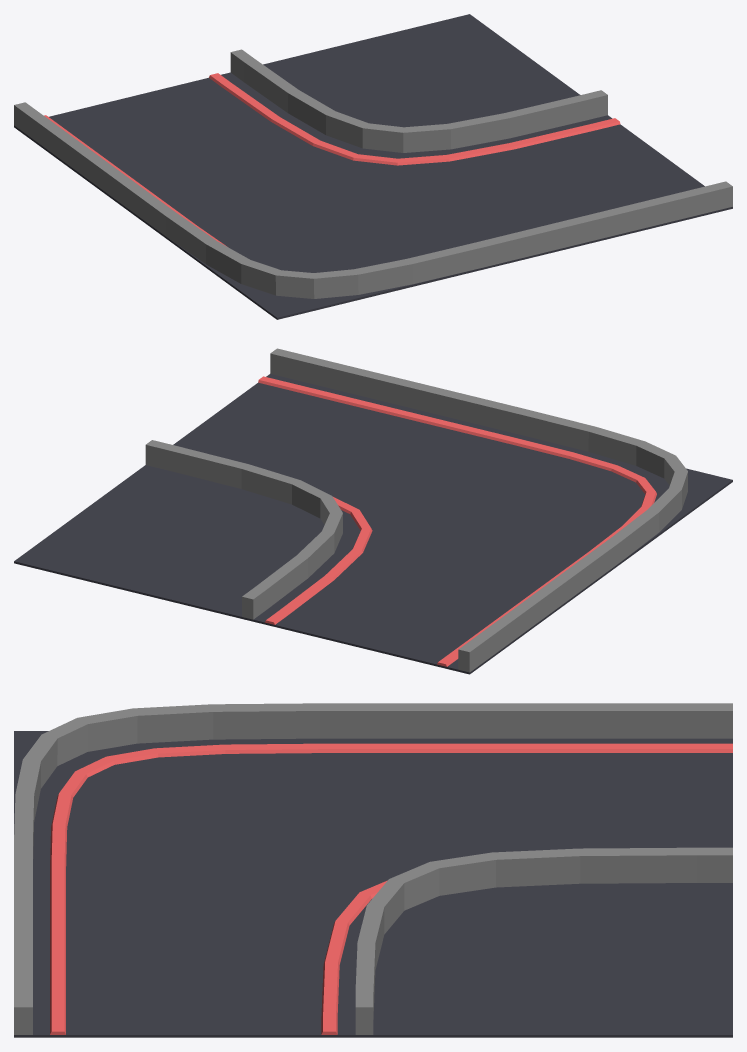
The model's file is kartkids_base_trk_080_trn_wide_l_2x2.glb.
The picture shows the model from 3 angles, top to bottom: view 1: azimuth 30°, elevation 25°; view 2: azimuth 150°, elevation 25°; view 3: azimuth 270°, elevation 25°; orthographic projection. The views are drawn at different scales.
Parts seen in each view (by area): view 1: kartkids_base_trk_010_rd_straight_1x1.010, kartkids_base_trk_020_trn_90_l_1x1.009, kartkids_base_trk_020_trn_90_l_1x1.020, kartkids_base_trk_020_trn_90_l_1x1.018; view 2: kartkids_base_trk_010_rd_straight_1x1.010, kartkids_base_trk_020_trn_90_l_1x1.009, kartkids_base_trk_020_trn_90_l_1x1.018, kartkids_base_trk_020_trn_90_l_1x1.020; view 3: kartkids_base_trk_010_rd_straight_1x1.010, kartkids_base_trk_020_trn_90_l_1x1.009, kartkids_base_trk_020_trn_90_l_1x1.018, kartkids_base_trk_020_trn_90_l_1x1.020.
Boxes of the visible parts, x1,y1,x2,y2 form: kartkids_base_trk_010_rd_straight_1x1.010: (14, 14, 732, 319); kartkids_base_trk_020_trn_90_l_1x1.009: (14, 49, 732, 298); kartkids_base_trk_020_trn_90_l_1x1.020: (209, 73, 620, 165); kartkids_base_trk_020_trn_90_l_1x1.018: (44, 115, 226, 246); kartkids_base_trk_010_rd_straight_1x1.010: (14, 373, 732, 674); kartkids_base_trk_020_trn_90_l_1x1.009: (145, 348, 687, 672); kartkids_base_trk_020_trn_90_l_1x1.018: (258, 376, 656, 666); kartkids_base_trk_020_trn_90_l_1x1.020: (265, 497, 372, 624); kartkids_base_trk_010_rd_straight_1x1.010: (14, 731, 732, 1037); kartkids_base_trk_020_trn_90_l_1x1.009: (14, 703, 732, 1034); kartkids_base_trk_020_trn_90_l_1x1.018: (50, 743, 732, 1034); kartkids_base_trk_020_trn_90_l_1x1.020: (321, 880, 387, 1034).
Bounding box in the file's own units: 20 × 0.9339 × 20.
